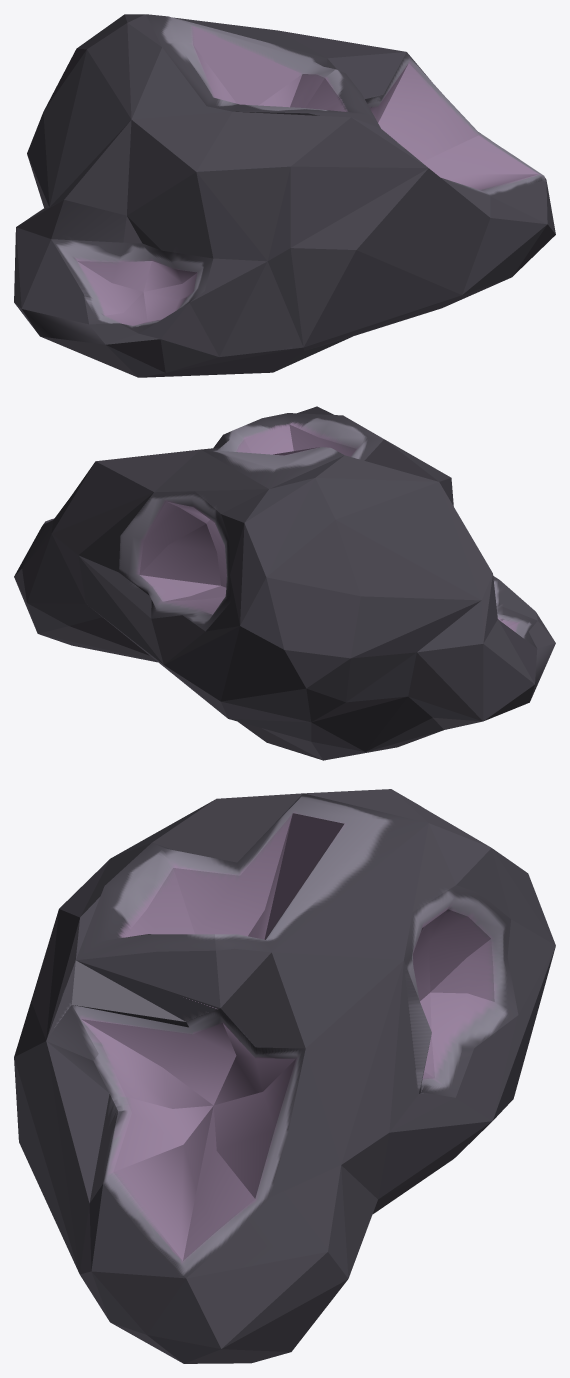
Rendered from GeneradorMeteorito.fbx.
3 views of the same model, one above another, from view 1: azimuth 30°, elevation 25°; view 2: azimuth 150°, elevation 25°; view 3: azimuth 270°, elevation 25° (orthographic). The views are drawn at different scales.
Parts seen in each view (by area): view 1: Asteroids.012, Asteroids.001; view 2: Asteroids.012, Asteroids.001; view 3: Asteroids.012, Asteroids.001.
Boxes of the visible parts, x1,y1,x2,y2 form: Asteroids.012: (14, 14, 555, 377); Asteroids.001: (51, 14, 546, 333); Asteroids.012: (14, 406, 555, 760); Asteroids.001: (42, 413, 537, 647); Asteroids.012: (14, 789, 555, 1363); Asteroids.001: (72, 793, 518, 1277).
Bounding box in the file's own units: 808 × 467 × 528.
